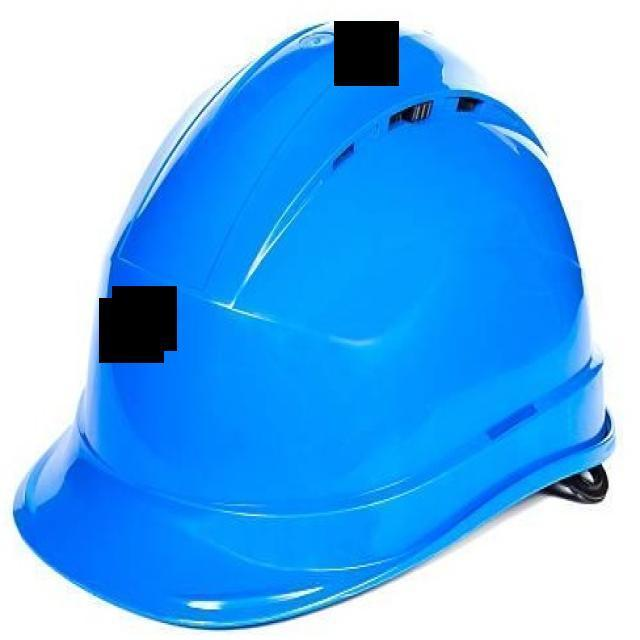blue helmet: (9, 16, 640, 637)
